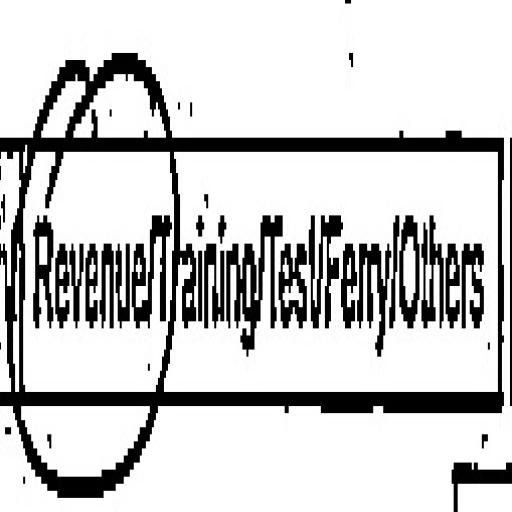check: (15, 17, 151, 512)
